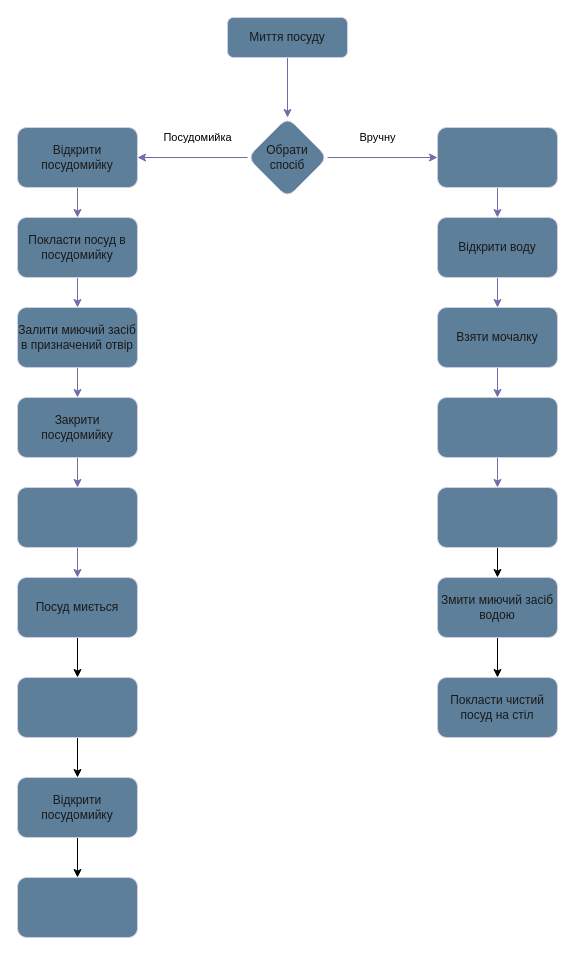
Some shapes in this 575 by 955 pixel diagram are drawn without their labels. Each missing label, with the centre of its shape:
Дістати посуд: (77,907)
Зачекати: (77,707)
Налити посудомийний засіб на мочалку: (497,427)
Покласти посуд у раковину: (497,157)
Почати терти посуд мочалкою круговими рухами: (497,517)
Увімкнути посудомийку: (77,517)
